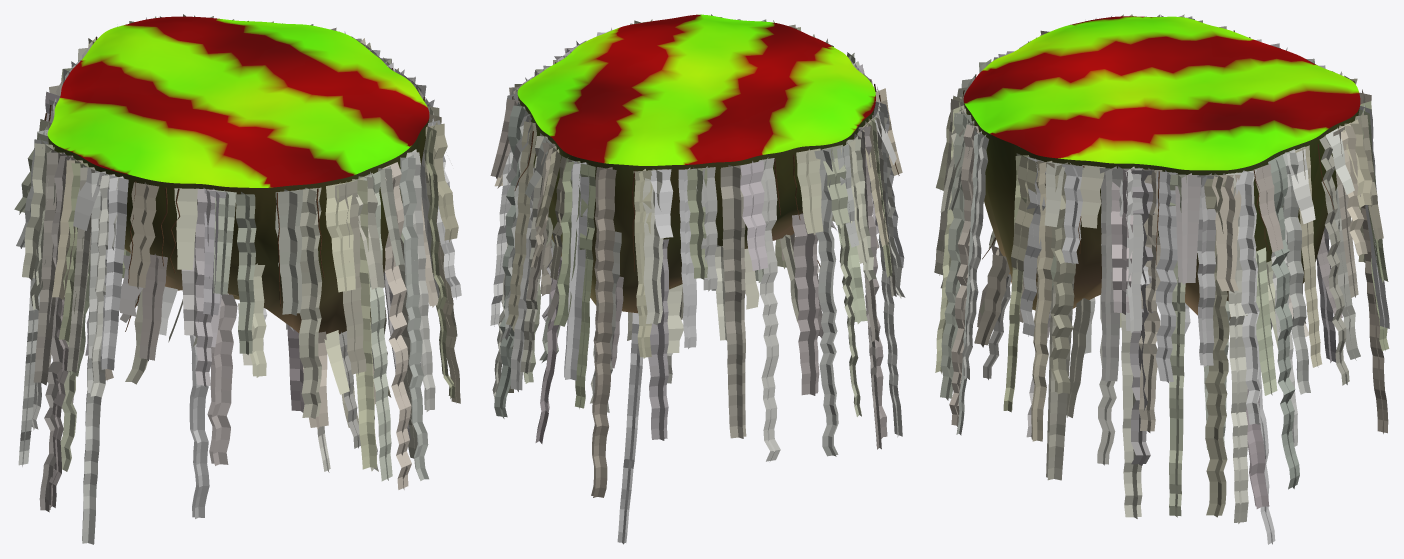
The model's file is SM_H12_Floater04.fbx.
3 renders of one model, left to right at view 1: azimuth 30°, elevation 25°; view 2: azimuth 150°, elevation 25°; view 3: azimuth 270°, elevation 25°, orthographic. The views are drawn at different scales.
Parts seen in each view (by area): view 1: SM_H12_Floater04_Ivy, SM_H12_Floater04; view 2: SM_H12_Floater04_Ivy, SM_H12_Floater04; view 3: SM_H12_Floater04_Ivy, SM_H12_Floater04.
Boxes of the visible parts, <box> form: SM_H12_Floater04_Ivy: <box>14,14,461,544</box>; SM_H12_Floater04: <box>47,16,429,334</box>; SM_H12_Floater04_Ivy: <box>490,14,905,544</box>; SM_H12_Floater04: <box>517,14,875,313</box>; SM_H12_Floater04_Ivy: <box>934,14,1389,544</box>; SM_H12_Floater04: <box>963,16,1360,320</box>.
Bounding box in the file's own units: 33.32 × 39.12 × 35.88.
